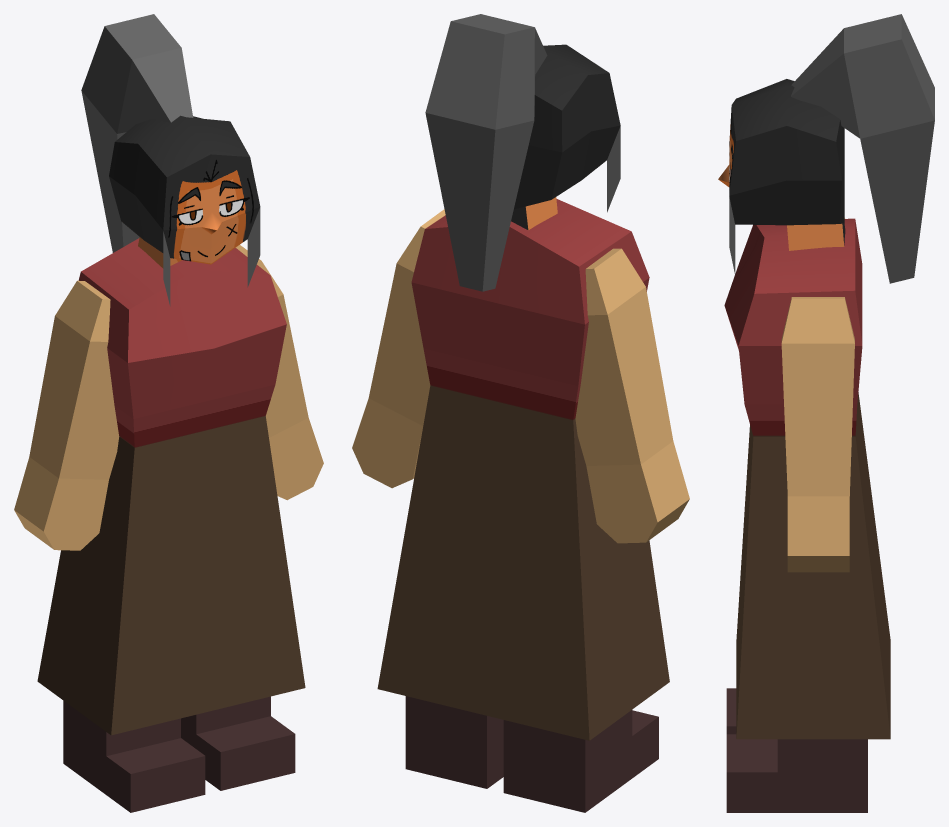
The model's file is blacksmith.fbx.
3 views of the same model, side by side, from view 1: azimuth 30°, elevation 25°; view 2: azimuth 150°, elevation 25°; view 3: azimuth 270°, elevation 25° (orthographic). The views are drawn at different scales.
Visible parts, largest first — view 1: pCube2, pCube1, pCube7, pCube9, pCube4, pCube10, pCube8; view 2: pCube2, pCube9, pCube7, pCube1, pCube8, pCube4, pCube10; view 3: pCube2, pCube9, pCube8, pCube1, pCube10, pCube4.
Boxes of the visible parts, x1=… form: pCube2: x1=37, y1=238, x2=305, y2=735; pCube1: x1=109, y1=115, x2=260, y2=306; pCube7: x1=14, y1=280, x2=119, y2=550; pCube9: x1=81, y1=14, x2=193, y2=252; pCube4: x1=63, y1=700, x2=205, y2=812; pCube10: x1=181, y1=696, x2=295, y2=790; pCube8: x1=235, y1=245, x2=323, y2=500; pCube2: x1=377, y1=198, x2=669, y2=740; pCube9: x1=425, y1=14, x2=547, y2=291; pCube7: x1=575, y1=248, x2=689, y2=543; pCube1: x1=511, y1=44, x2=620, y2=230; pCube8: x1=352, y1=209, x2=445, y2=488; pCube4: x1=503, y1=710, x2=658, y2=812; pCube10: x1=405, y1=696, x2=503, y2=788; pCube2: x1=724, y1=218, x2=890, y2=739; pCube9: x1=791, y1=14, x2=934, y2=283; pCube8: x1=781, y1=297, x2=854, y2=572; pCube1: x1=718, y1=79, x2=845, y2=274; pCube10: x1=726, y1=734, x2=867, y2=812; pCube4: x1=726, y1=688, x2=736, y2=734.
Size of the model in its own units: 2.17 by 5.27 by 1.39.
5 materials, 2 textured.
